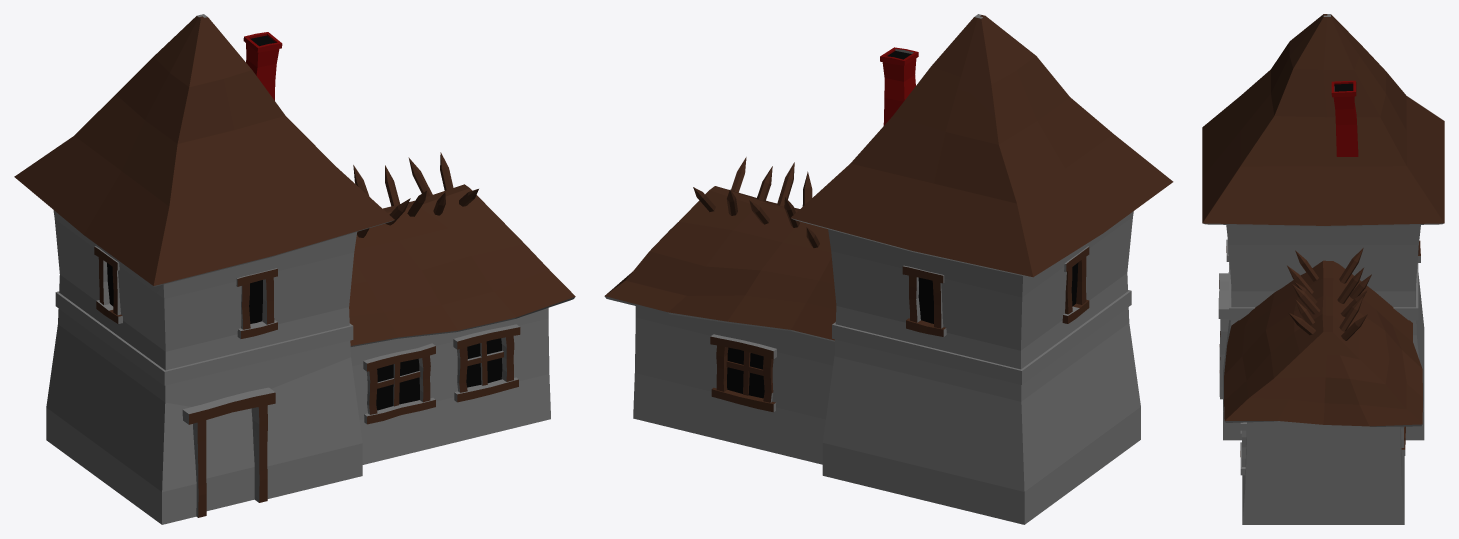
The model's file is vikingcommandpost.fbx.
3 renders of one model, left to right at view 1: azimuth 30°, elevation 25°; view 2: azimuth 150°, elevation 25°; view 3: azimuth 270°, elevation 25°, orthographic. The views are drawn at different scales.
Parts seen in each view (by area): view 1: pCube92; view 2: pCube92; view 3: pCube92.
Part boxes in pixels (bbox=[...]): pCube92: bbox=[14, 14, 575, 524]; pCube92: bbox=[604, 14, 1173, 524]; pCube92: bbox=[1202, 14, 1444, 524].
Bounding box in the file's own units: 915 × 875 × 502.
